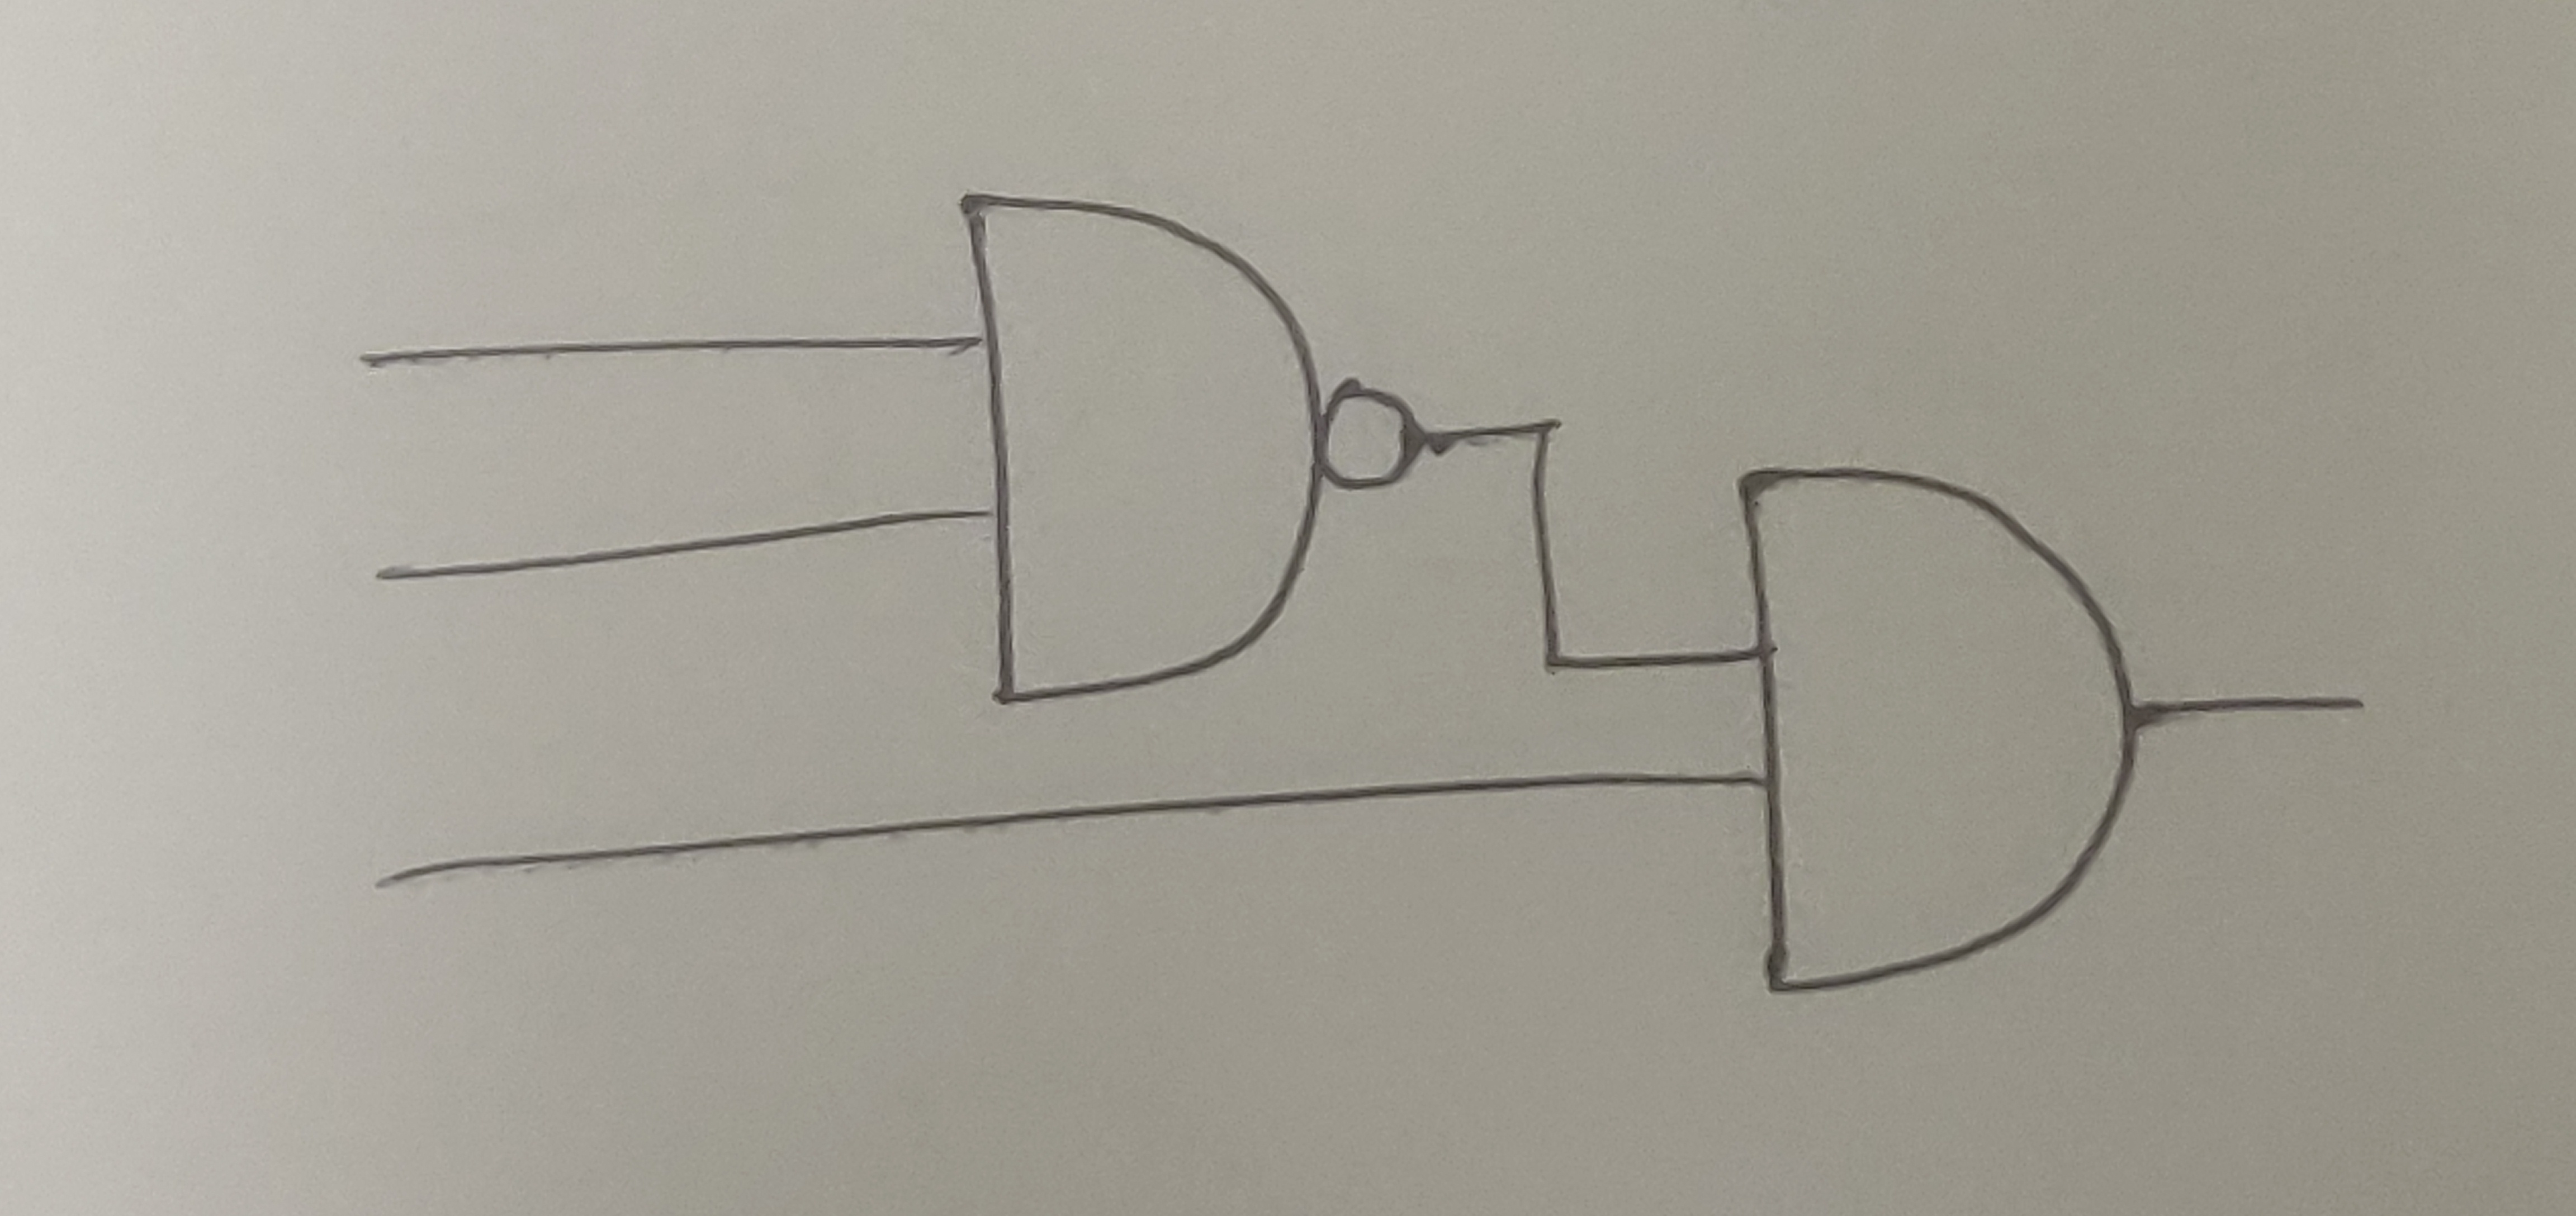and: (1732, 460, 2142, 996), (959, 187, 1331, 707)
not: (1311, 375, 1429, 496)
